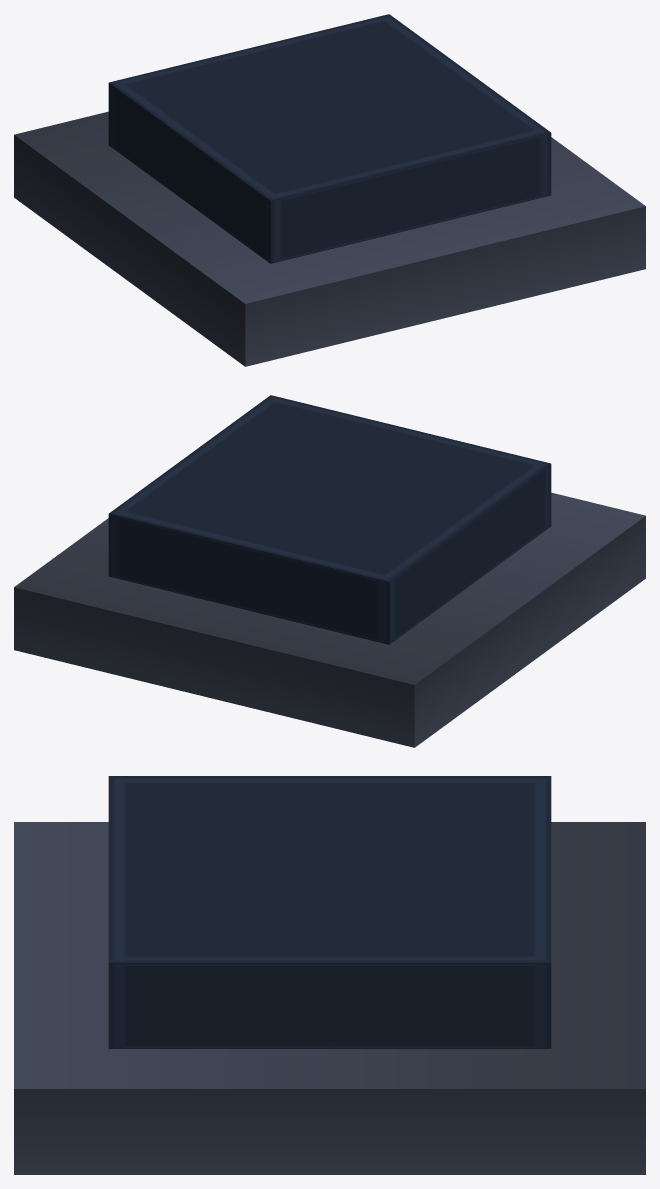
File: KIT_Ceiling_Vault_4x4.glb
3 views of the same model, one above another, from view 1: azimuth 30°, elevation 25°; view 2: azimuth 150°, elevation 25°; view 3: azimuth 270°, elevation 25° (orthographic). The views are drawn at different scales.
Parts seen in each view (by area): view 1: KIT_Ceiling_Vault_4x4; view 2: KIT_Ceiling_Vault_4x4; view 3: KIT_Ceiling_Vault_4x4.
Boxes of the visible parts, left/top/right/bottom form: KIT_Ceiling_Vault_4x4: left=14, top=14, right=645, bottom=366; KIT_Ceiling_Vault_4x4: left=14, top=395, right=645, bottom=747; KIT_Ceiling_Vault_4x4: left=14, top=776, right=645, bottom=1174.
Bounding box in the file's own units: 4 × 1.2 × 4.
Materials: 1 (1 with a texture image).
